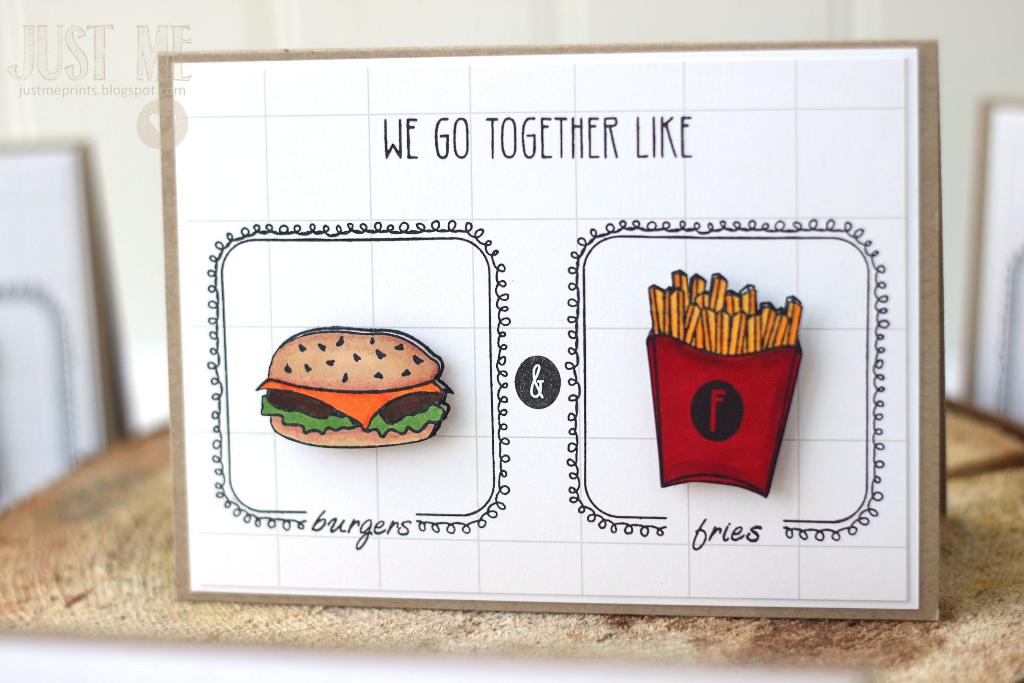French fries: (640, 257, 805, 367)
